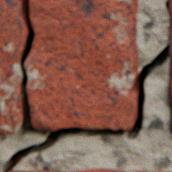brick: (8, 167, 171, 171), (168, 0, 171, 132)
broken_brick: (25, 0, 138, 129), (0, 0, 29, 133)
crack: (2, 0, 169, 171), (165, 0, 169, 11)
